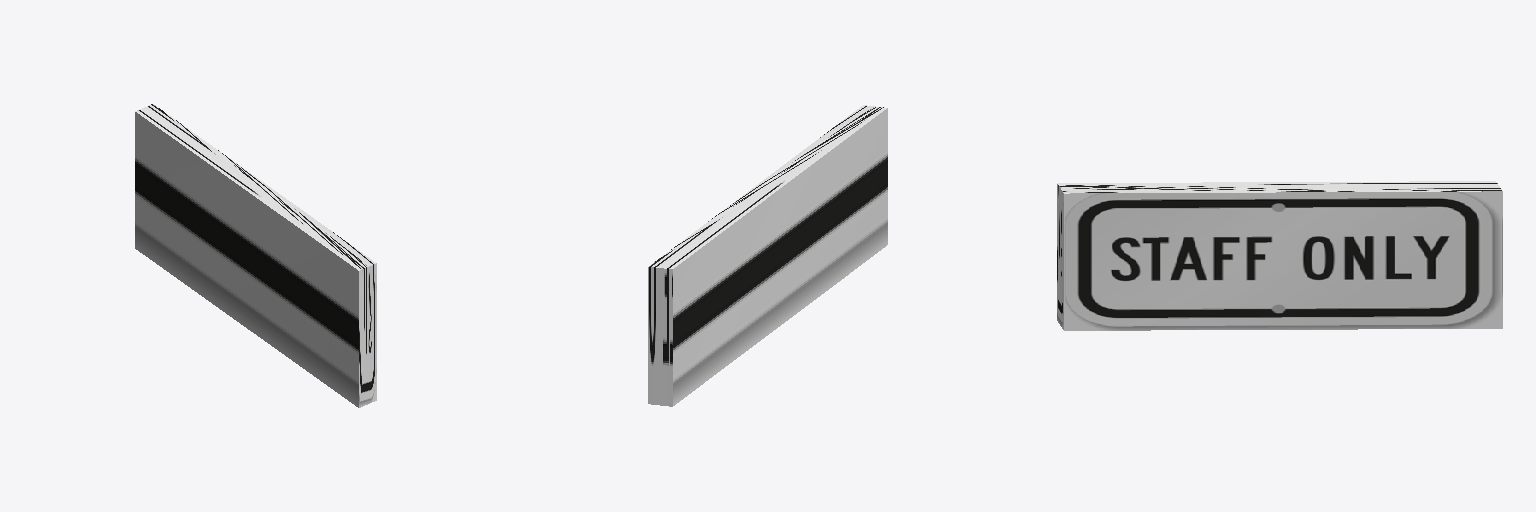
The picture shows the model from 3 angles: view 1: azimuth 30°, elevation 25°; view 2: azimuth 150°, elevation 25°; view 3: azimuth 270°, elevation 25°; orthographic projection.
Parts seen in each view (by area): view 1: Puerta:pCube17; view 2: Puerta:pCube17; view 3: Puerta:pCube17.
Part boxes in pixels (bbox=[...]): Puerta:pCube17: bbox=[135, 104, 376, 407]; Puerta:pCube17: bbox=[648, 105, 887, 406]; Puerta:pCube17: bbox=[1057, 181, 1502, 330].
Bounding box in the file's own units: 0.1737 × 0.8939 × 2.63.
Materials: 1 (1 with a texture image).